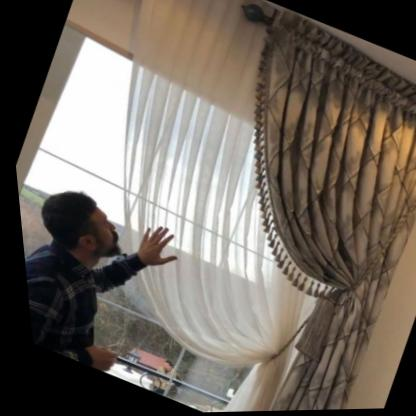Curtains: (239, 0, 416, 412)
